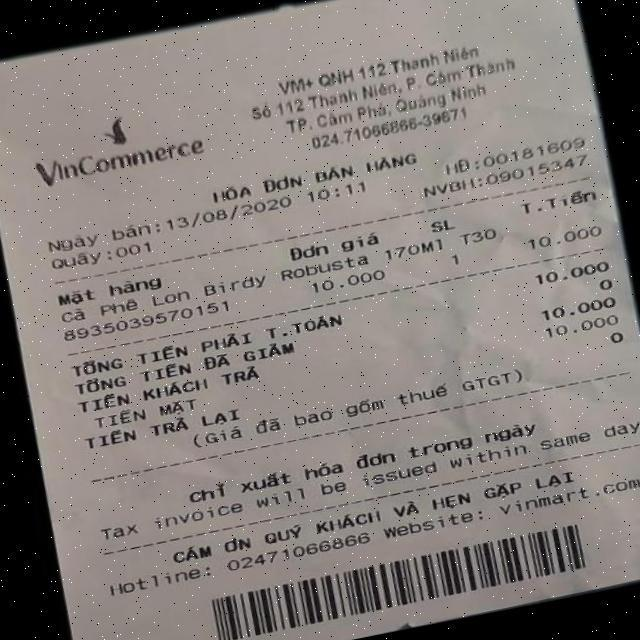Date: (160, 189, 298, 236)
Store_Name: (8, 96, 226, 197)
amount_number: (531, 256, 615, 292)
label_total: (69, 309, 346, 382)
